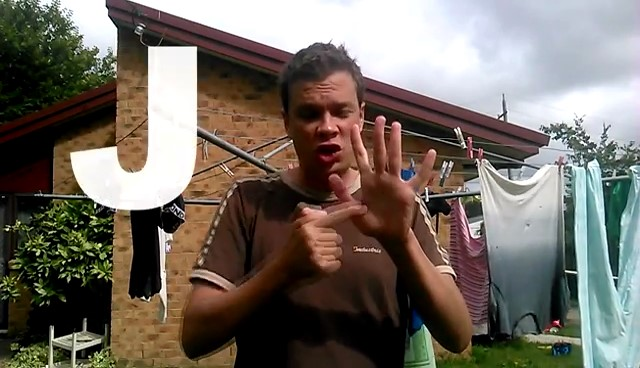J: (276, 111, 445, 280)
